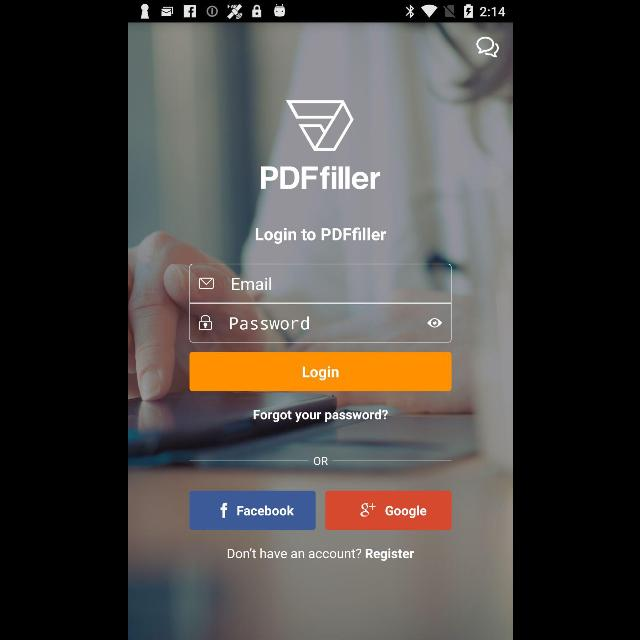backgroundimage: (128, 22, 512, 640)
icon: (476, 36, 498, 58), (198, 315, 212, 331), (426, 318, 442, 328), (198, 278, 214, 288)
image: (285, 100, 353, 152)
input: (189, 264, 451, 304), (189, 303, 451, 343)
text: (260, 167, 380, 190), (226, 548, 414, 562), (254, 228, 386, 245), (252, 410, 388, 422), (230, 316, 308, 329), (232, 278, 270, 290), (313, 456, 327, 466)
textbutton: (189, 352, 451, 392), (325, 492, 451, 530), (189, 492, 315, 530)
uppertaskbar: (128, 1, 512, 23)
